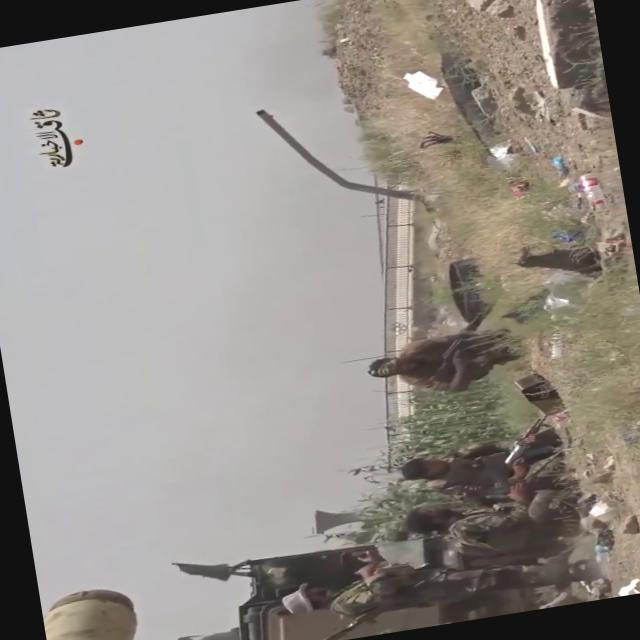long weapon: (315, 560, 463, 639), (418, 295, 514, 385), (492, 412, 558, 476)
